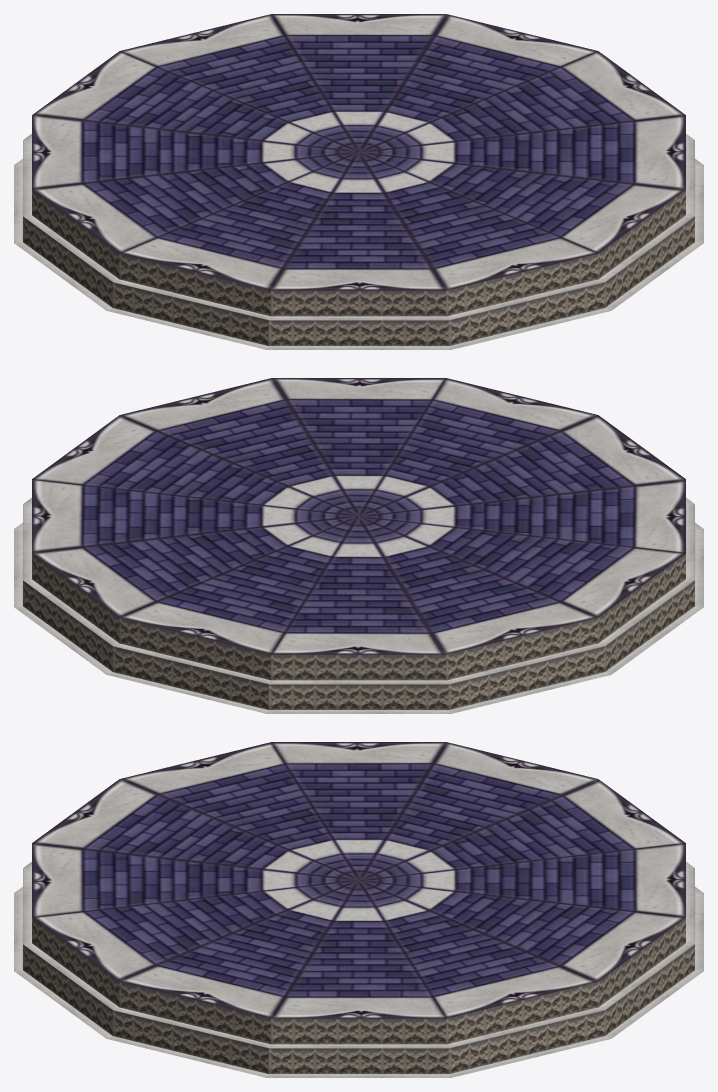
File: stage01_circle_b.FBX
3 views of the same model, one above another, from view 1: azimuth 30°, elevation 25°; view 2: azimuth 150°, elevation 25°; view 3: azimuth 270°, elevation 25° (orthographic).
Parts seen in each view (by area): view 1: Object013, Object021, Object020, Object022, Object019, Object023, Object018, Object024; view 2: Object013, Object025, Object014, Object024, Object015, Object023, Object016, Object022; view 3: Object013, Object017, Object016, Object018, Object015, Object019, Object014, Object020.
Part boxes in pixels (x1,y1,x2,y2): Object013: (32, 14, 685, 290); Object021: (266, 290, 451, 349); Object020: (446, 253, 610, 349); Object022: (107, 253, 271, 349); Object019: (598, 190, 703, 310); Object023: (14, 190, 119, 310); Object018: (686, 140, 703, 242); Object024: (14, 140, 31, 242); Object013: (32, 378, 685, 654); Object025: (266, 654, 451, 713); Object014: (107, 617, 271, 713); Object024: (446, 617, 610, 713); Object015: (14, 554, 119, 674); Object023: (598, 554, 703, 674); Object016: (14, 504, 31, 606); Object022: (686, 504, 703, 606); Object013: (32, 742, 685, 1018); Object017: (266, 1018, 451, 1077); Object016: (446, 981, 610, 1077); Object018: (107, 981, 271, 1077); Object015: (598, 918, 703, 1038); Object019: (14, 918, 119, 1038); Object014: (686, 868, 703, 970); Object020: (14, 868, 31, 970).
Bounding box in the file's own units: 237 × 19.67 × 237.
Materials: 1 (1 with a texture image).
